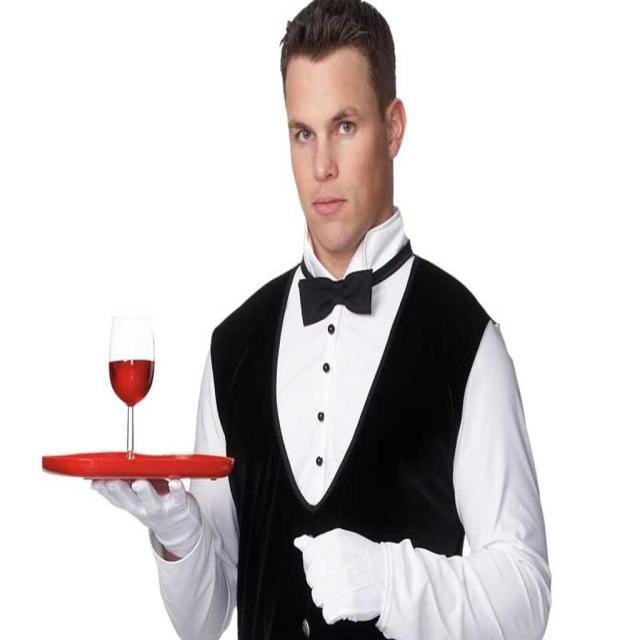Face: (281, 38, 392, 257)
